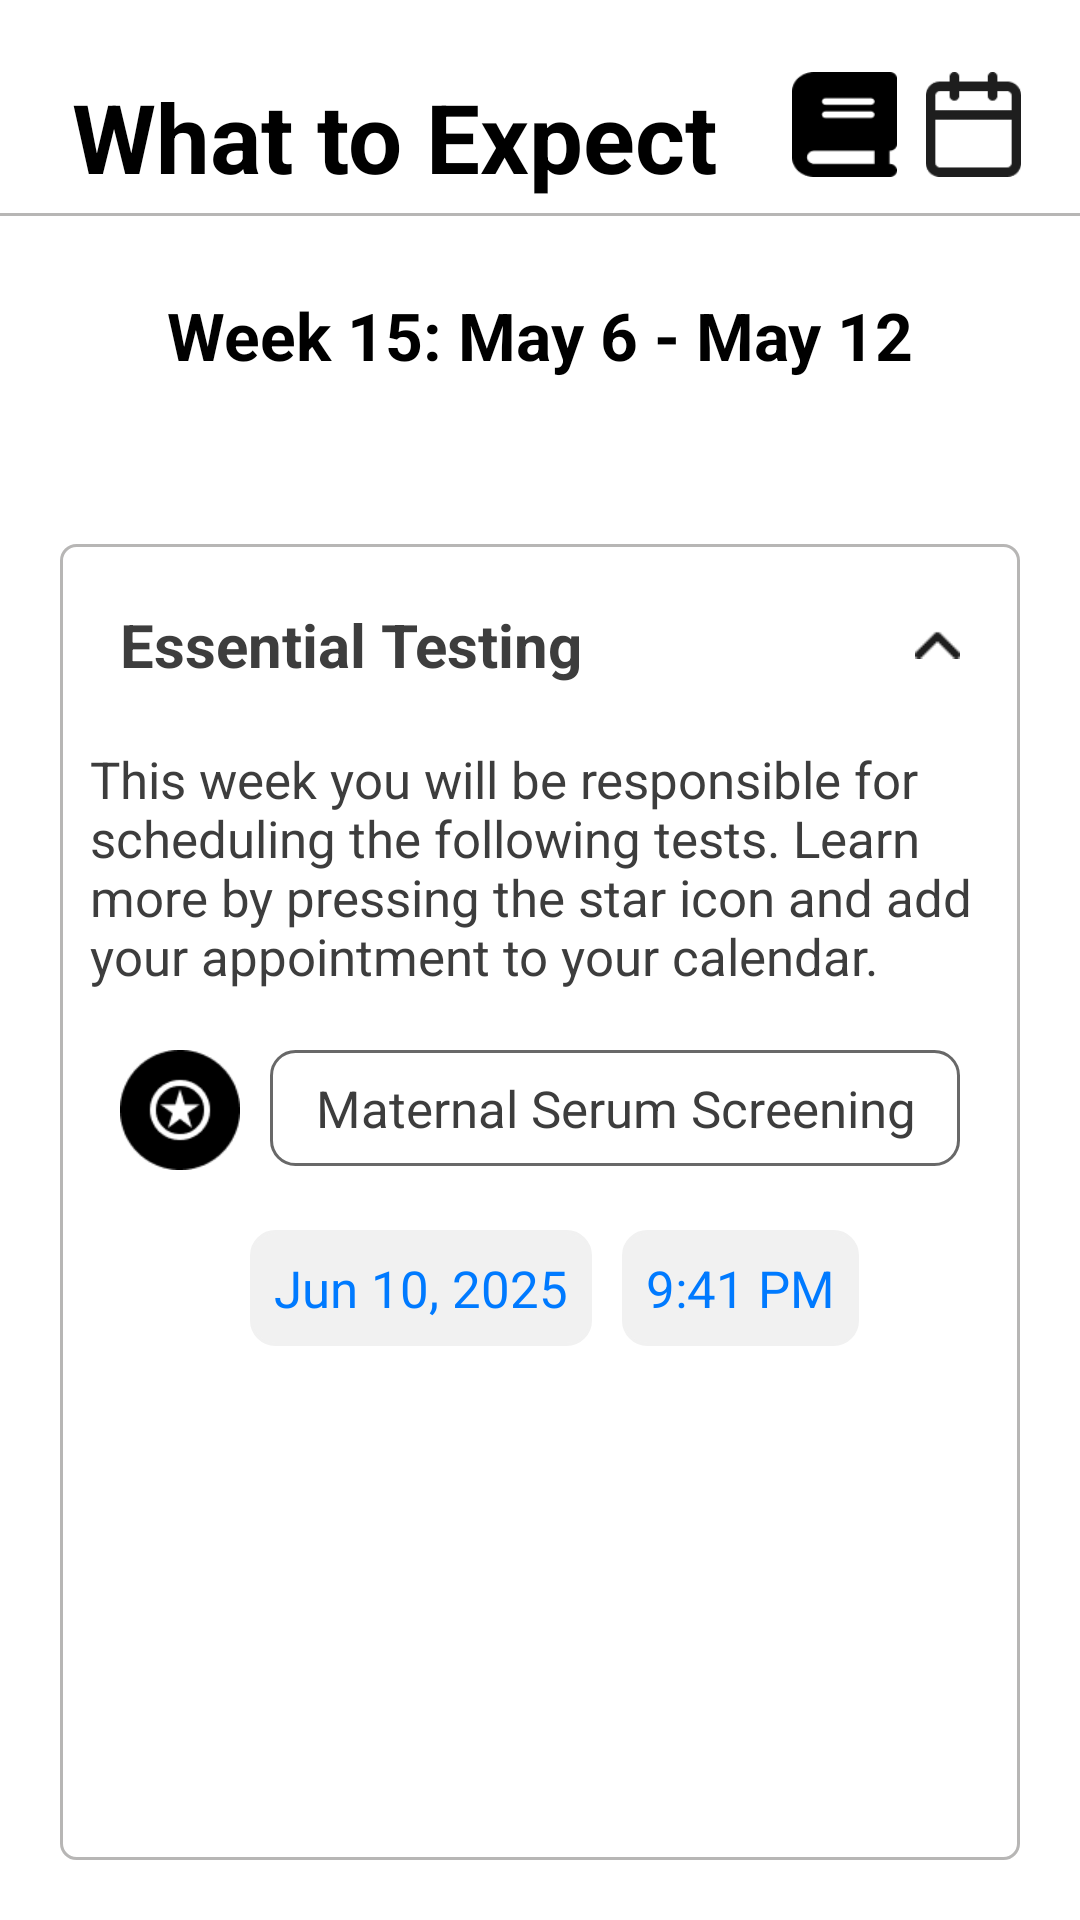

Where icons sit on this 1080 × 1920 app screen, as (x1, y1, x2, y2):
date: (926, 72, 1021, 177)
notes: (792, 72, 897, 177)
top arrow: (915, 632, 960, 659)
